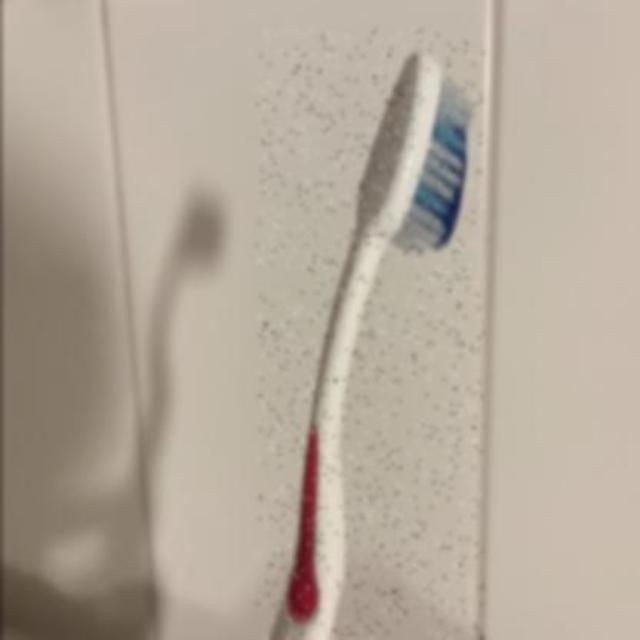toothbrush: (255, 30, 482, 640)
